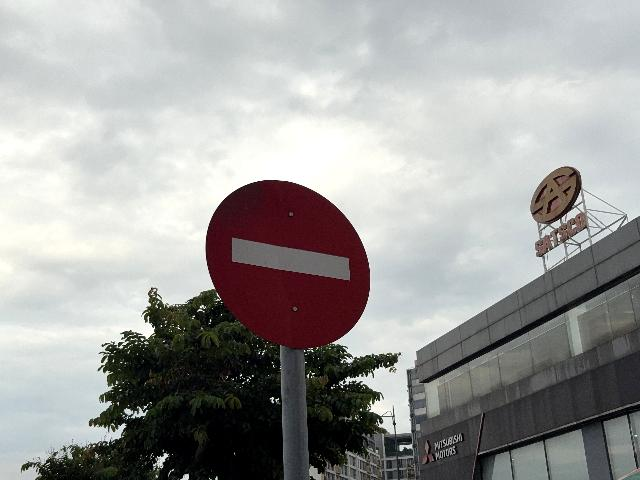cam-di-nguoc-chieu: (205, 179, 370, 349)
